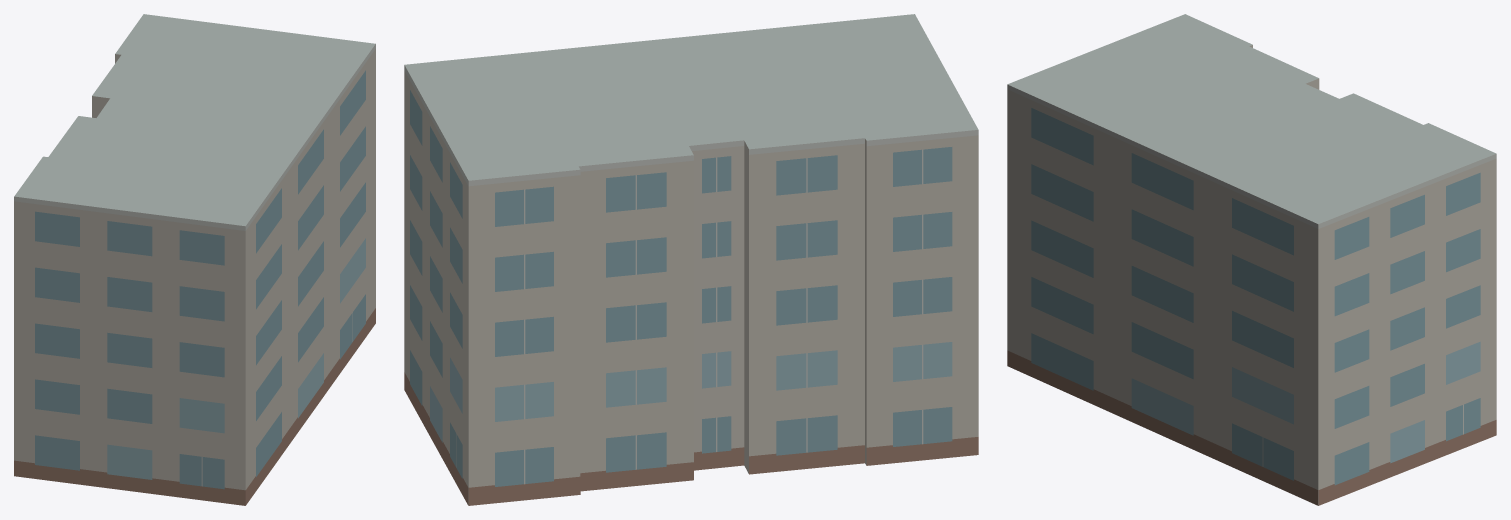
File: survey-upis-33026268.glb
The picture shows the model from 3 angles, left to right: view 1: azimuth 30°, elevation 25°; view 2: azimuth 150°, elevation 25°; view 3: azimuth 270°, elevation 25°; orthographic projection. The views are drawn at different scales.
Visible parts, largest first — view 1: survey-upis-33026268.tmp; view 2: survey-upis-33026268.tmp; view 3: survey-upis-33026268.tmp.
Boxes of the visible parts, bbox=[...] form: survey-upis-33026268.tmp: bbox=[14, 14, 375, 505]; survey-upis-33026268.tmp: bbox=[404, 14, 978, 505]; survey-upis-33026268.tmp: bbox=[1007, 14, 1496, 505].
Bounding box in the file's own units: 22.9 × 14.3 × 22.53.
